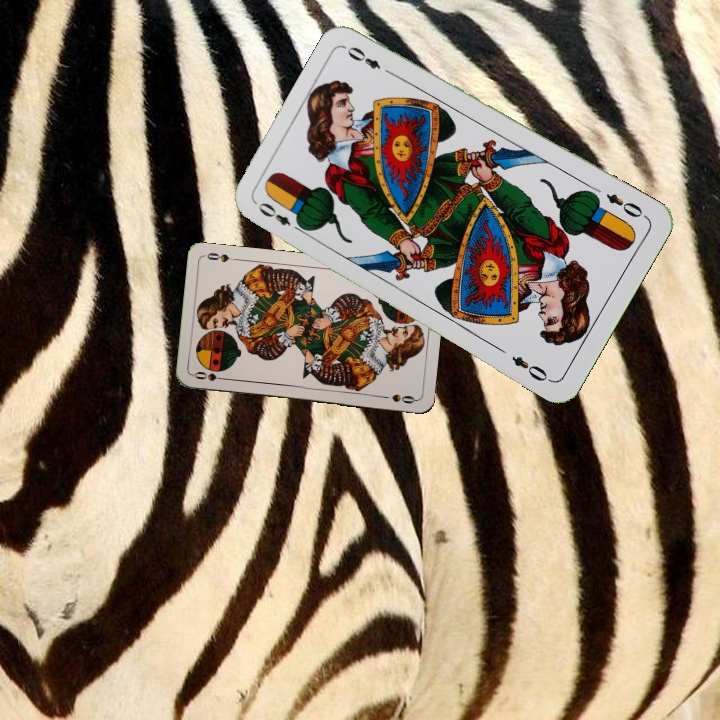EO: (254, 198, 307, 236), (601, 189, 645, 221)
SO: (190, 367, 230, 384)
